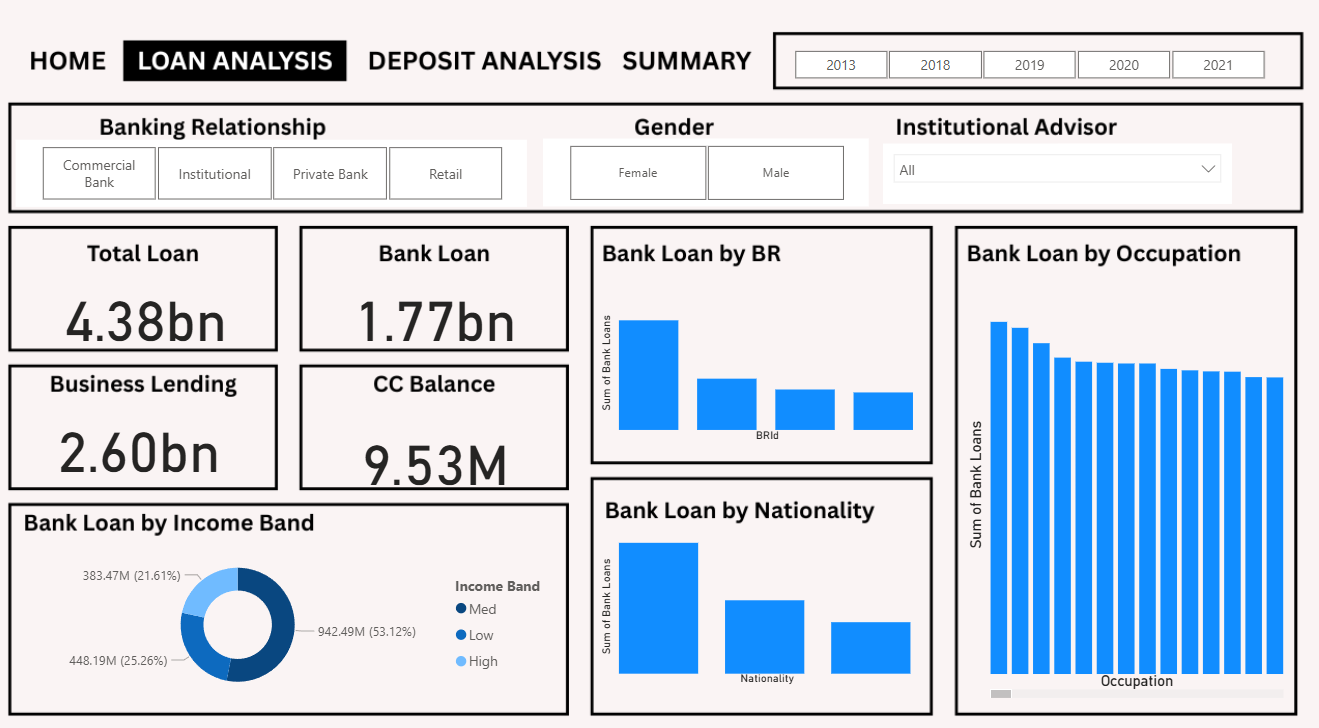

The dashboard page shown, as its layout file describes it:
{"tool":"powerbi","page":{"name":"Loan Analysis","canvas":[1280,720],"ordinal":1},"visuals":[{"type":"slicer","fields":{"Values":["Banking.Year of Joining"]},"box":[748,55.5,503.1,38.6],"z":0},{"type":"actionButton","box":[22,53.7,100,40.2],"z":1000},{"type":"actionButton","box":[356.1,54.9,239,40.2],"z":2000},{"type":"actionButton","box":[607.3,56.1,140.2,40.2],"z":3000},{"type":"card","fields":{"Values":["Banking.Total loan"]},"box":[52.4,253.7,191.5,126.8],"z":4000},{"type":"card","fields":{"Values":["Sum(Banking.Bank Loans)"]},"box":[337.8,253.7,178,126.8],"z":5000},{"type":"card","fields":{"Values":["Sum(Banking.Business Lending)"]},"box":[52.4,380.5,178,126.8],"z":6000},{"type":"card","fields":{"Values":["Sum(Banking.Credit Card Balance)"]},"box":[337.8,392.7,178,126.8],"z":7000},{"type":"donutChart","fields":{"Category":["Banking.Income Band"],"Y":["Sum(Banking.Bank Loans)"]},"box":[22,541.5,529.3,150],"z":8000},{"type":"columnChart","fields":{"Category":["Banking.BRId"],"Y":["Sum(Banking.Bank Loans)"]},"box":[581.7,284.1,314.6,159.8],"z":9000},{"type":"clusteredColumnChart","fields":{"Category":["Banking.Nationality"],"Y":["Sum(Banking.Bank Loans)"]},"box":[581.7,519.5,314.6,159.8],"z":10000},{"type":"clusteredColumnChart","fields":{"Category":["Banking.Occupation"],"Y":["Sum(Banking.Bank Loans)"]},"box":[936.6,284.1,314.6,407.3],"z":11000},{"type":"slicer","fields":{"Values":["Banking.BRId"]},"box":[22,148.8,493.9,64.6],"z":12000},{"type":"slicer","fields":{"Values":["Banking.GenderId"]},"box":[530.5,147.6,314.6,65.9],"z":13000},{"type":"slicer","fields":{"Values":["Banking.IAId"]},"box":[858.5,152.4,336.6,58.5],"z":14000}]}

Visuals, with their boxes in screenshot pixels (x1, y1, x2, y2), scaled from the page's 1280x720 canvas onto the 1319x728 screenshot:
slicer - Banking.Year of Joining: bbox=(771, 56, 1289, 95)
actionButton: bbox=(23, 54, 126, 95)
actionButton: bbox=(367, 56, 613, 96)
actionButton: bbox=(626, 57, 770, 97)
card - Banking.Total loan: bbox=(54, 257, 251, 385)
card - Sum(Banking.Bank Loans): bbox=(348, 257, 532, 385)
card - Sum(Banking.Business Lending): bbox=(54, 385, 237, 513)
card - Sum(Banking.Credit Card Balance): bbox=(348, 397, 532, 525)
donutChart - Banking.Income Band x Sum(Banking.Bank Loans): bbox=(23, 548, 568, 699)
columnChart - Banking.BRId x Sum(Banking.Bank Loans): bbox=(599, 287, 924, 449)
clusteredColumnChart - Banking.Nationality x Sum(Banking.Bank Loans): bbox=(599, 525, 924, 687)
clusteredColumnChart - Banking.Occupation x Sum(Banking.Bank Loans): bbox=(965, 287, 1289, 699)
slicer - Banking.BRId: bbox=(23, 150, 532, 216)
slicer - Banking.GenderId: bbox=(547, 149, 871, 216)
slicer - Banking.IAId: bbox=(885, 154, 1232, 213)
